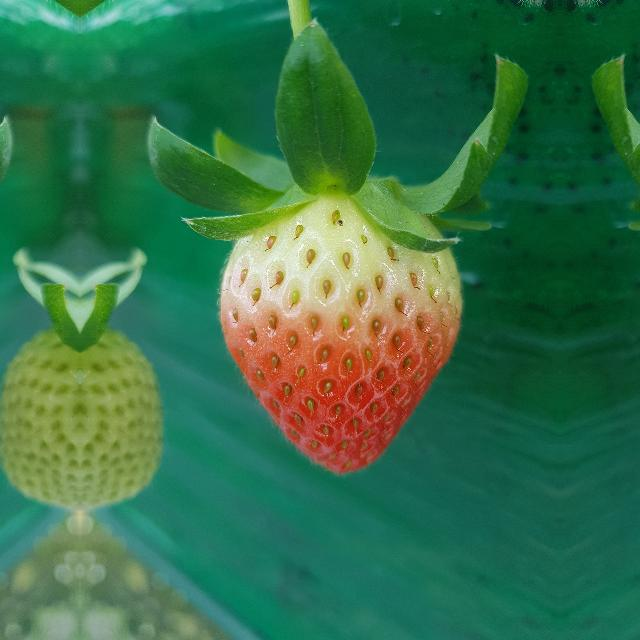Health_50: (218, 183, 464, 474)
